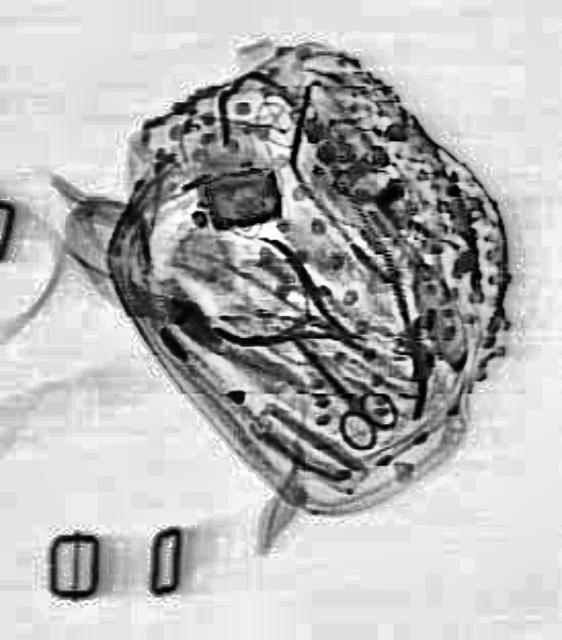Pliers: (210, 228, 384, 392)
Scissors: (268, 314, 404, 458)
